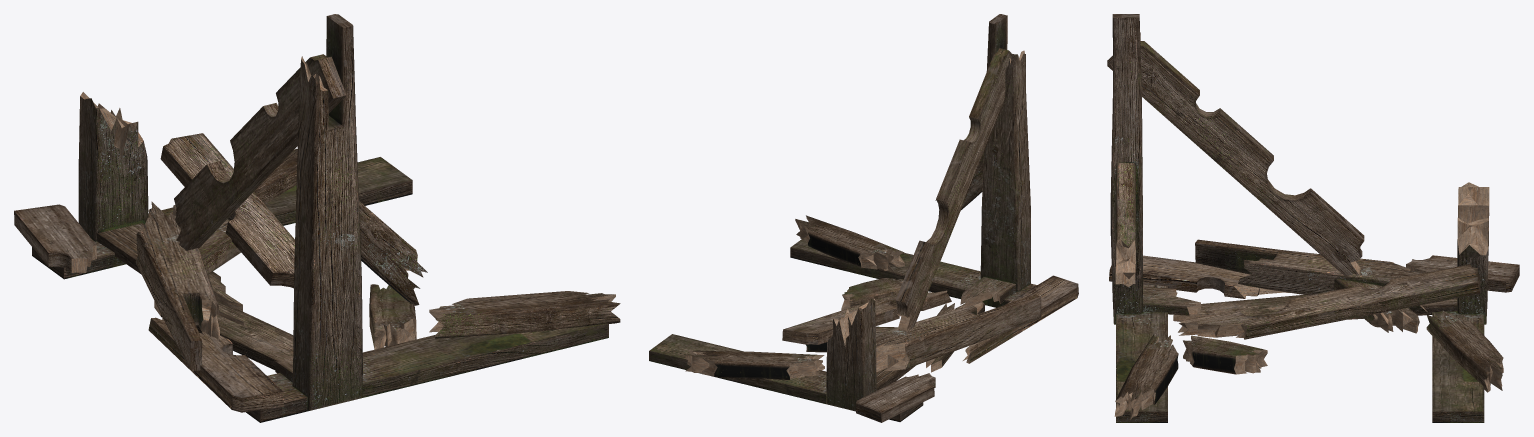
Rendered from CA_Pillory_Destruction_Stage2.fbx.
The picture shows the model from 3 angles, left to right: view 1: azimuth 30°, elevation 25°; view 2: azimuth 150°, elevation 25°; view 3: azimuth 270°, elevation 25°; orthographic projection. The views are drawn at different scales.
Parts seen in each view (by area): view 1: CA_Pillory_Destruction_Stage2; view 2: CA_Pillory_Destruction_Stage2; view 3: CA_Pillory_Destruction_Stage2.
Boxes of the visible parts, bbox=[...] form: CA_Pillory_Destruction_Stage2: bbox=[14, 14, 620, 422]; CA_Pillory_Destruction_Stage2: bbox=[649, 14, 1078, 422]; CA_Pillory_Destruction_Stage2: bbox=[1107, 14, 1519, 422].
Bounding box in the file's own units: 145 × 135 × 165.
